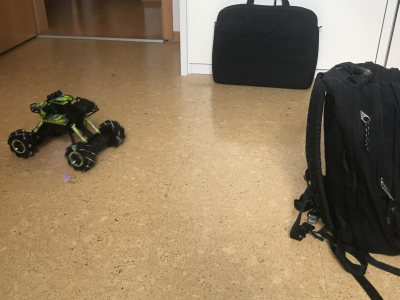remote control car: (6, 88, 126, 173)
